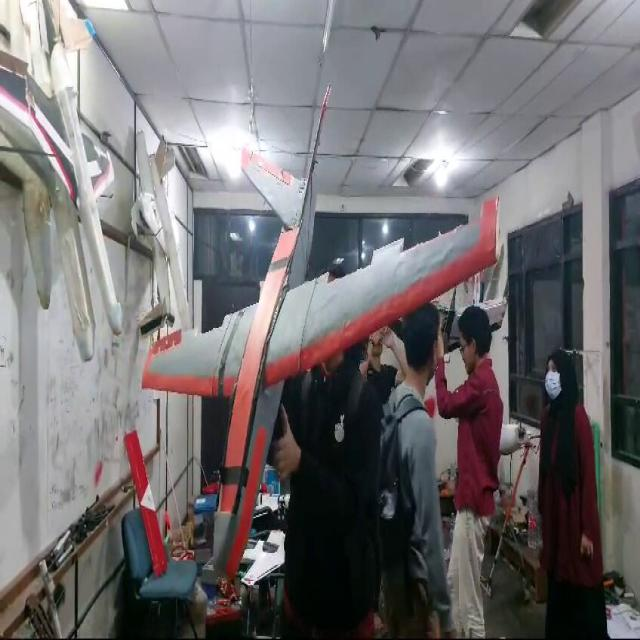plane: (138, 82, 504, 585)
